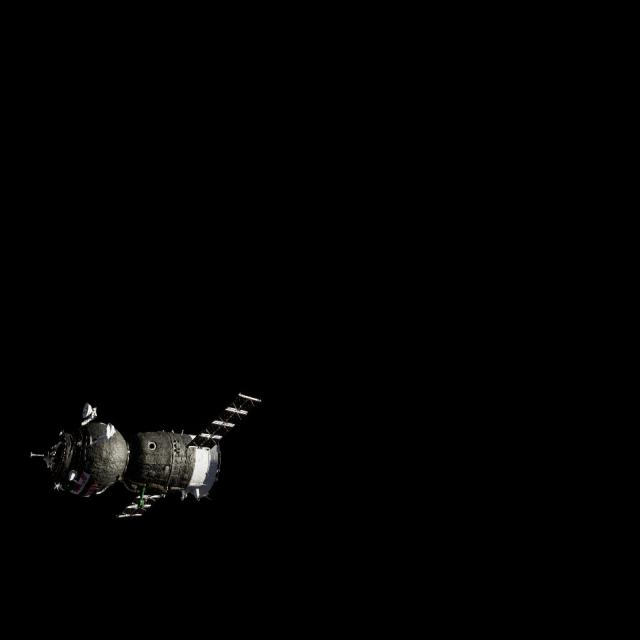Satellites revolving around earth: (28, 388, 264, 525)
